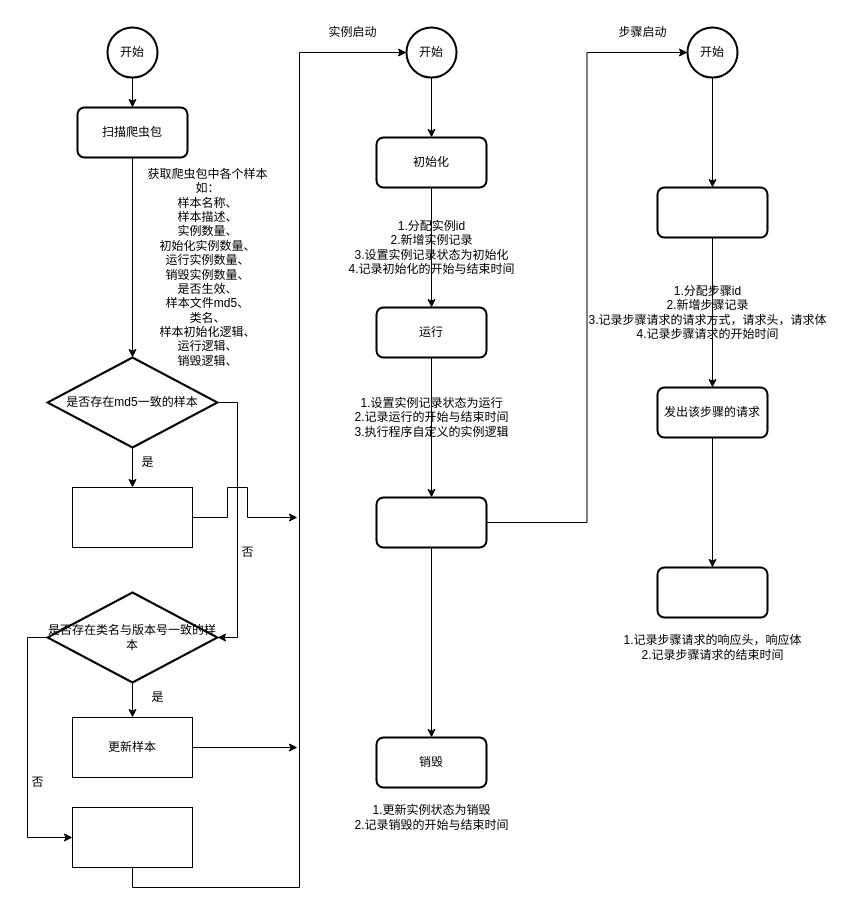
Image size: 854x913. Some labels were removed from this diagram. Each missing label, with the centre of its shape:
产生步骤: (431,522)
保持不变: (132,517)
接收该步骤的响应: (712,592)
新增样本并激活: (132,837)
构建步骤的请求部分: (712,212)
